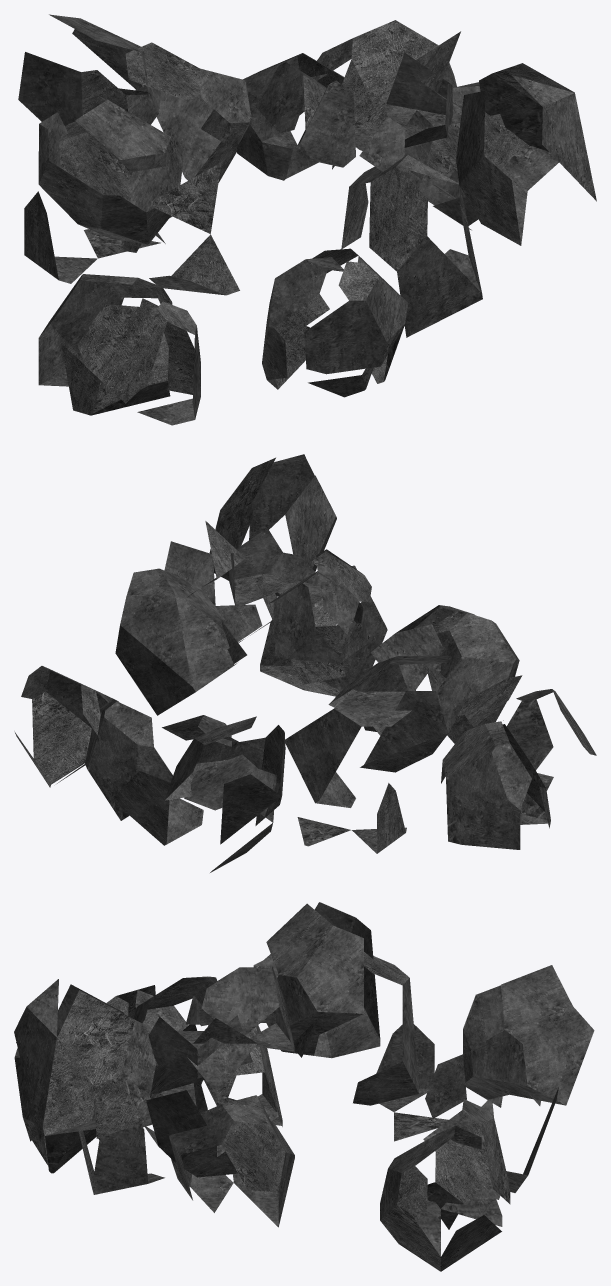
The model's file is Stone15.obj.
3 renders of one model, top to bottom at view 1: azimuth 30°, elevation 25°; view 2: azimuth 150°, elevation 25°; view 3: azimuth 270°, elevation 25°, orthographic. The views are drawn at different scales.
Visible parts, largest first — view 1: Object015; view 2: Object015; view 3: Object015.
Boxes of the visible parts, x1,y1,x2,y2 form: Object015: (18, 14, 596, 425); Object015: (14, 454, 596, 872); Object015: (14, 902, 594, 1271).
Bounding box in the file's own units: 333 × 184 × 345.
Materials: 1 (1 with a texture image).
